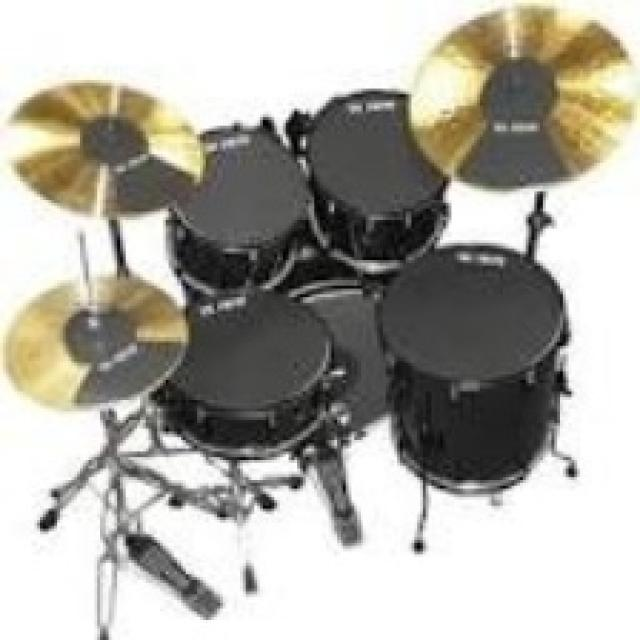drums: (5, 12, 640, 609)
